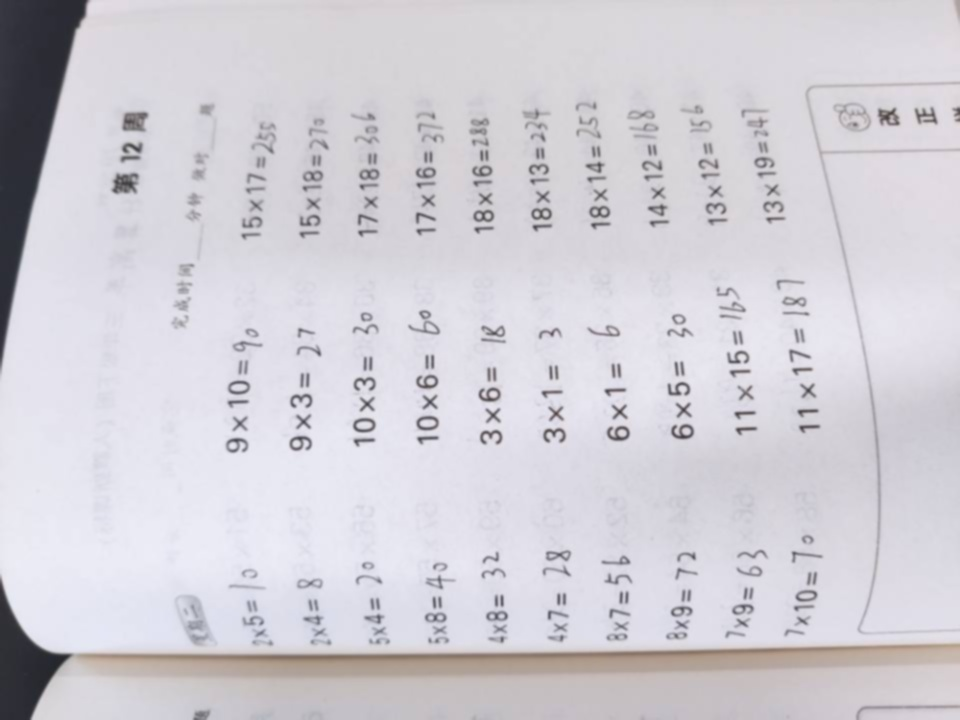equation: (772, 265, 844, 448), (207, 309, 270, 473), (708, 274, 766, 447), (396, 306, 456, 461), (579, 524, 648, 656), (624, 93, 684, 242), (647, 302, 706, 453), (732, 93, 797, 230), (678, 88, 738, 234), (645, 527, 716, 650), (462, 313, 521, 460), (521, 312, 582, 451), (517, 92, 573, 242), (584, 302, 641, 449), (574, 90, 627, 248), (341, 308, 393, 462), (286, 104, 339, 250), (402, 95, 450, 251), (237, 109, 287, 257), (346, 98, 395, 249), (518, 528, 574, 654), (461, 101, 508, 251), (715, 529, 773, 648), (776, 527, 830, 651), (340, 551, 405, 654), (218, 552, 281, 658), (469, 532, 517, 655), (282, 319, 324, 459), (410, 545, 463, 654), (286, 564, 342, 655)
